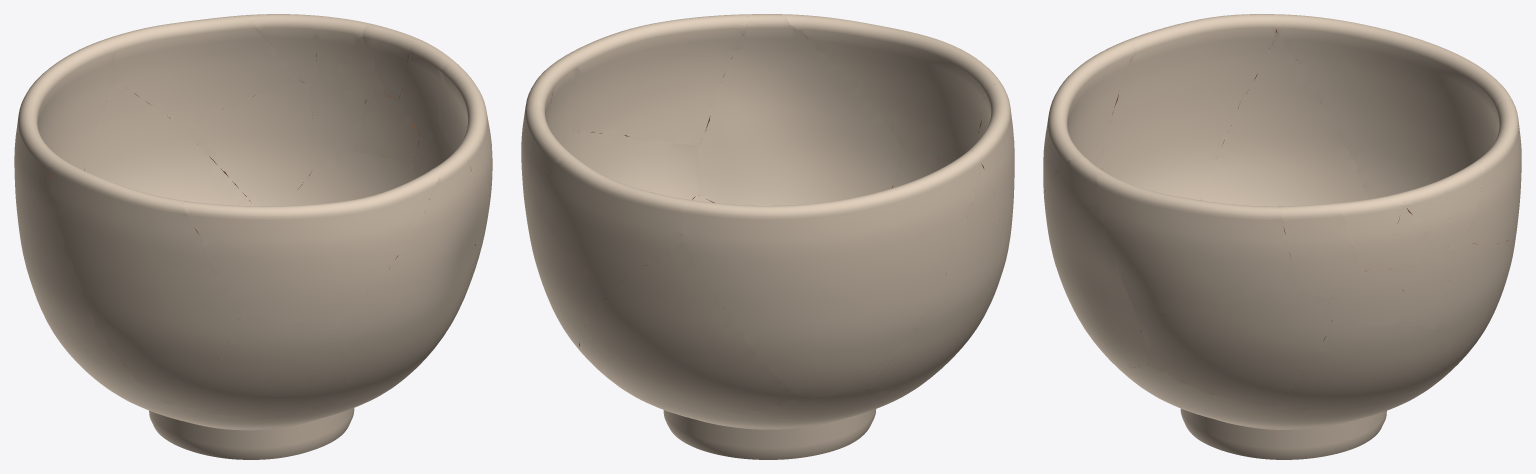
Rendered from Z2_fling.glb.
3 views of the same model, side by side, from view 1: azimuth 30°, elevation 25°; view 2: azimuth 150°, elevation 25°; view 3: azimuth 270°, elevation 25° (orthographic).
Parts seen in each view (by area): view 1: shard_19, shard_16, shard_14, shard_09, shard_18, shard_13, shard_08, shard_15, shard_17, shard_00, shard_11, shard_10 (+8 smaller); view 2: shard_15, shard_14, shard_13, shard_11, shard_16, shard_09, shard_00, shard_17, shard_12, shard_08, shard_19, shard_05 (+4 smaller); view 3: shard_15, shard_19, shard_11, shard_17, shard_12, shard_00, shard_14, shard_10, shard_16, shard_05, shard_08, shard_09 (+7 smaller).
Part boxes in pixels (left/top/right/bottom): shard_19: left=49, top=159, right=240, bottom=407; shard_16: left=183, top=168, right=439, bottom=324; shard_14: left=339, top=154, right=479, bottom=398; shard_09: left=105, top=14, right=298, bottom=127; shard_18: left=190, top=314, right=346, bottom=418; shard_13: left=84, top=81, right=254, bottom=206; shard_08: left=184, top=80, right=314, bottom=206; shard_15: left=14, top=39, right=115, bottom=265; shard_17: left=24, top=171, right=164, bottom=403; shard_00: left=100, top=308, right=459, bottom=459; shard_11: left=438, top=62, right=492, bottom=255; shard_10: left=286, top=151, right=416, bottom=205; shard_15: left=681, top=150, right=980, bottom=396; shard_14: left=697, top=14, right=905, bottom=205; shard_13: left=579, top=242, right=799, bottom=413; shard_11: left=566, top=14, right=747, bottom=146; shard_16: left=786, top=14, right=1002, bottom=160; shard_09: left=535, top=156, right=689, bottom=290; shard_00: left=580, top=195, right=926, bottom=459; shard_17: left=864, top=163, right=1003, bottom=391; shard_12: left=563, top=130, right=699, bottom=199; shard_08: left=531, top=201, right=609, bottom=349; shard_19: left=969, top=83, right=1014, bottom=277; shard_05: left=537, top=55, right=577, bottom=145; shard_15: left=1275, top=14, right=1513, bottom=199; shard_19: left=1100, top=14, right=1277, bottom=200; shard_11: left=1096, top=172, right=1294, bottom=314; shard_17: left=1201, top=35, right=1368, bottom=206; shard_12: left=1135, top=282, right=1332, bottom=405; shard_00: left=1110, top=360, right=1452, bottom=459; shard_14: left=1044, top=158, right=1152, bottom=368; shard_10: left=1275, top=322, right=1447, bottom=410; shard_16: left=1043, top=40, right=1134, bottom=198; shard_05: left=1280, top=203, right=1362, bottom=302; shard_08: left=1439, top=240, right=1513, bottom=366; shard_09: left=1464, top=100, right=1521, bottom=244.
Bounding box in the file's own units: 0.1228 × 0.0871 × 0.122.
